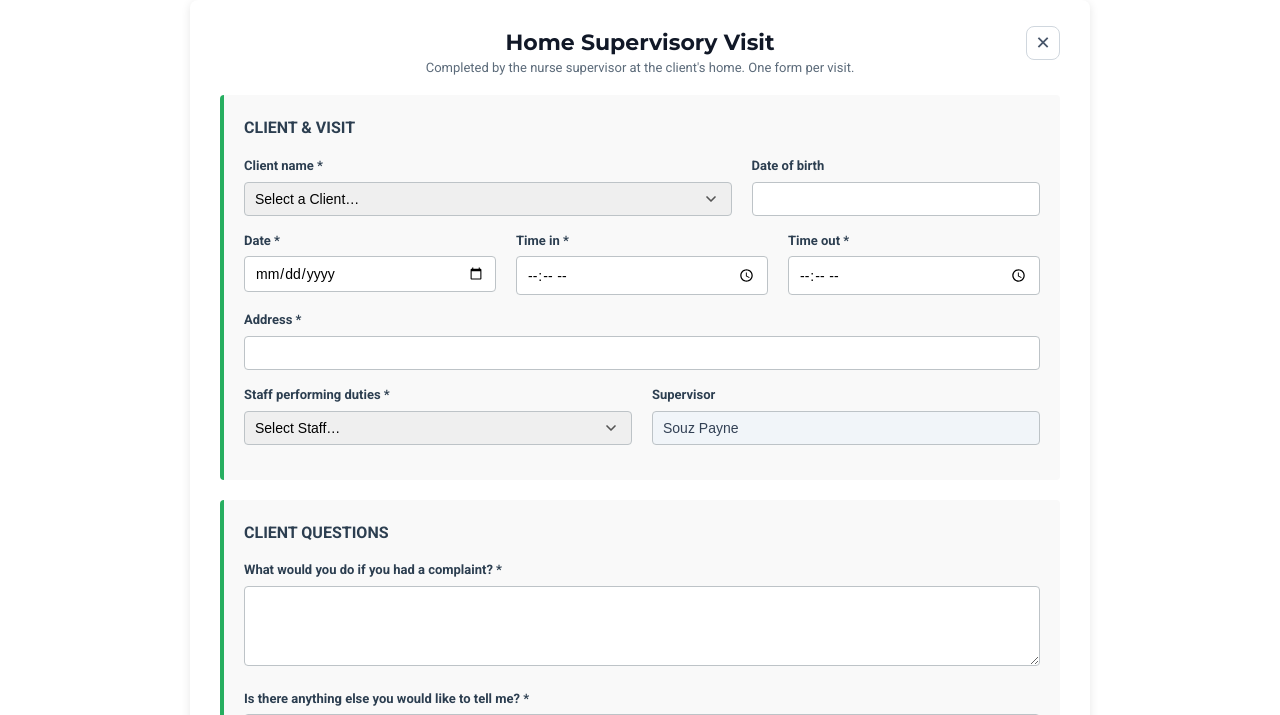
SupervisoryVisitPage › fills the client's address and lists the client's assigned staff first
Select "Neal Kelly" in the dropdown labelled "Client name *": (488, 199) x1=244 y1=182 x2=732 y2=216
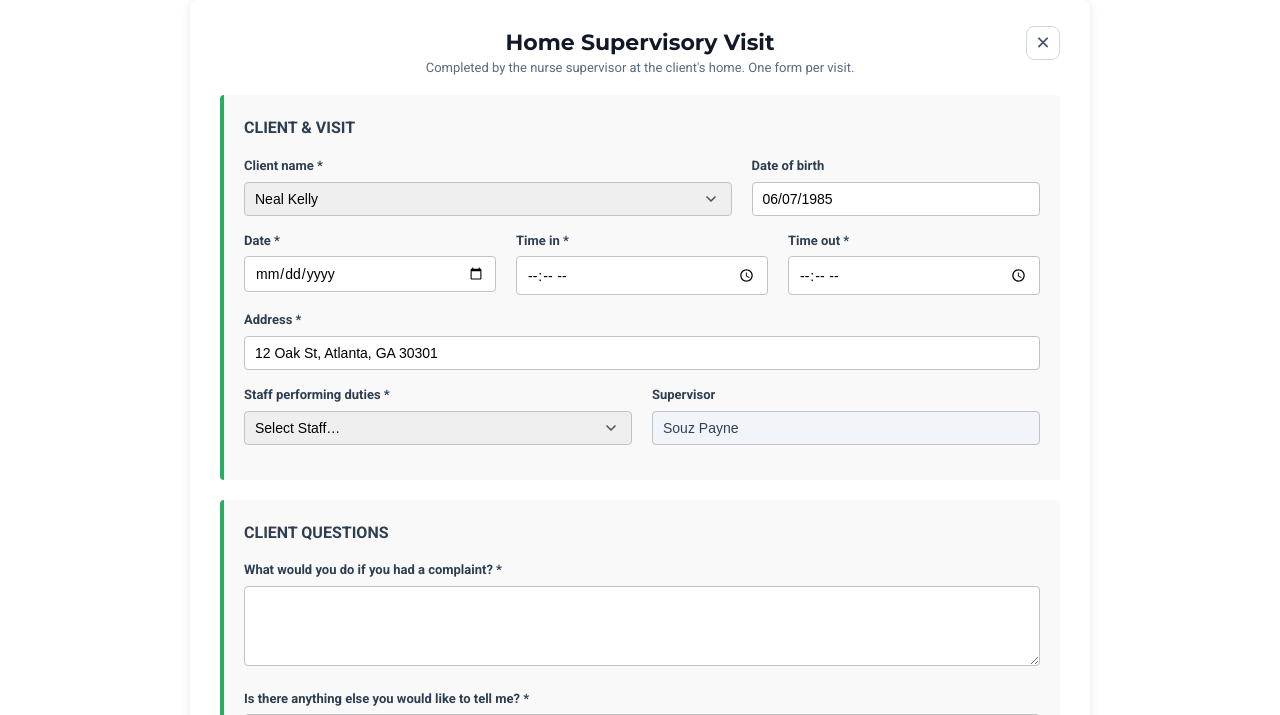
Expected: the field labelled "Address *" holds "12 Oak St, Atlanta, GA 30301", x1=244 y1=336 x2=1040 y2=370
